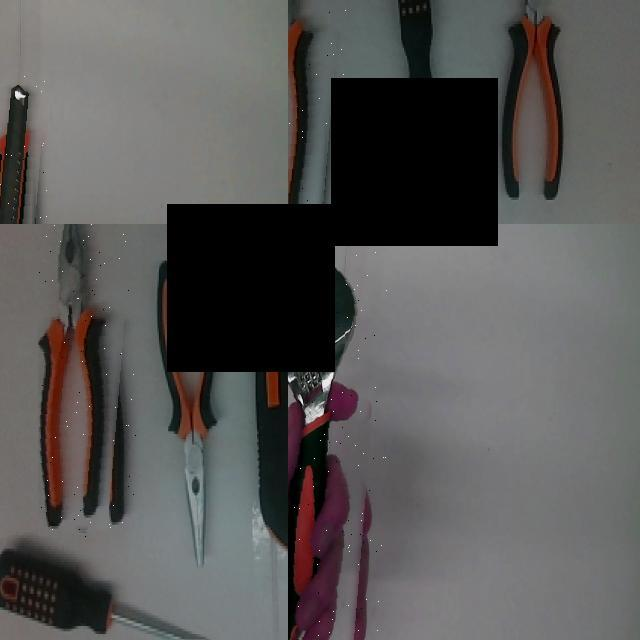estilete: (0, 85, 29, 223)
